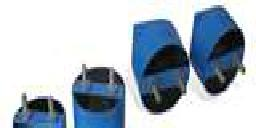Electrolytic-capacitor: (130, 18, 191, 115), (189, 3, 247, 97), (74, 63, 125, 128), (10, 93, 63, 128)
